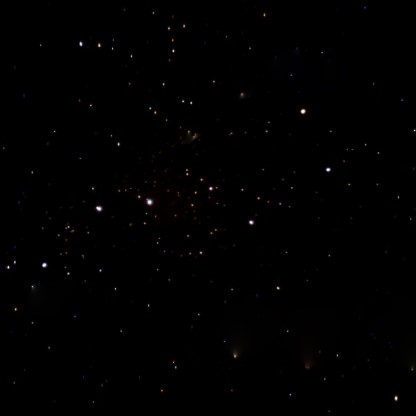Ursa Major: (196, 173, 223, 198), (87, 200, 114, 221), (319, 157, 342, 181), (139, 188, 158, 211), (292, 102, 312, 120), (33, 258, 52, 274), (242, 217, 259, 230)
